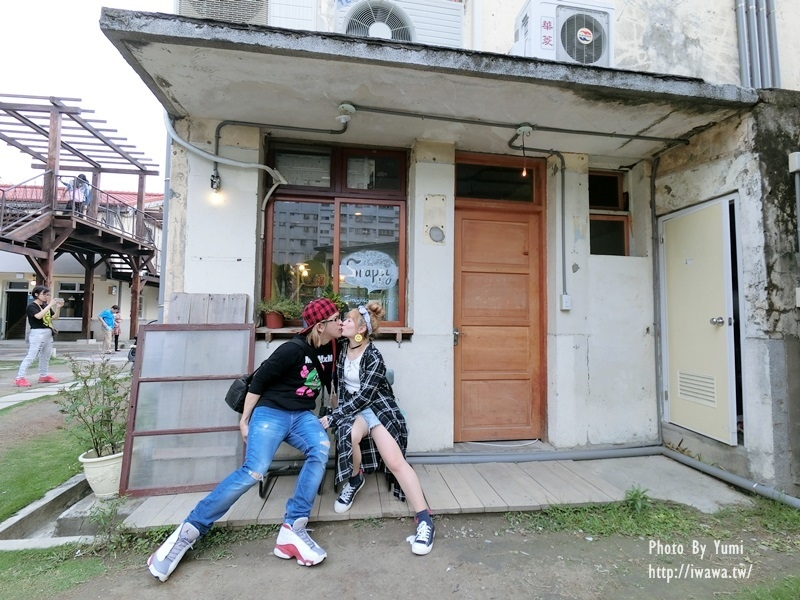people: (146, 299, 340, 579), (335, 302, 439, 554), (21, 281, 60, 384), (101, 305, 122, 353)
